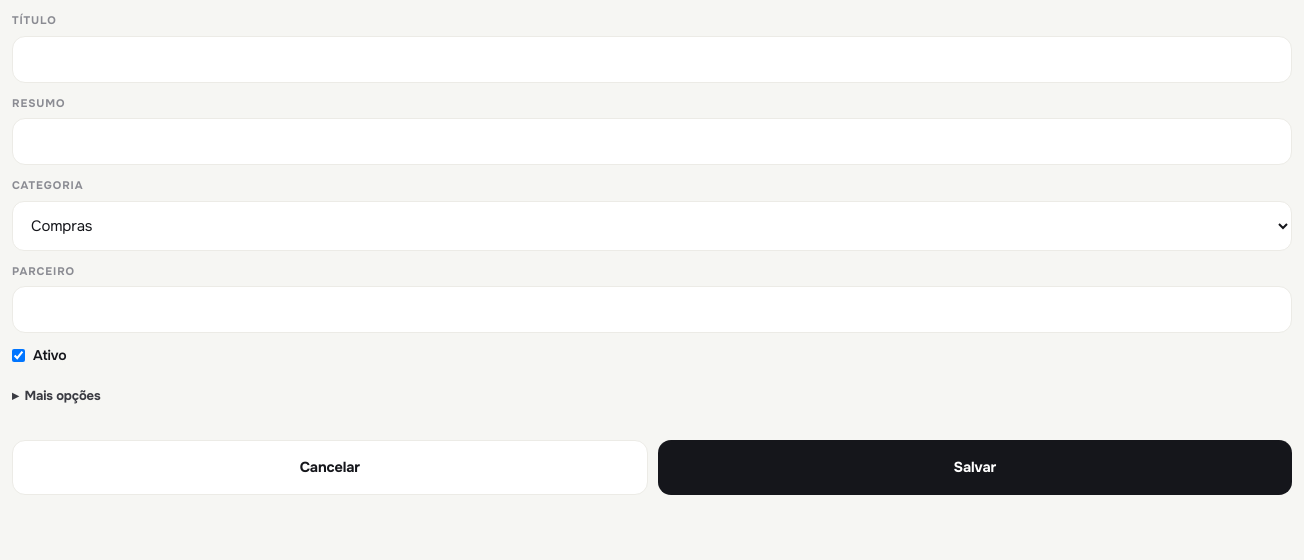
Scenario: BenefitForm › não submete título e resumo vazios e associa erros aos campos
Click the button "Salvar".
click(975, 467)  # box [658,440,1292,495]
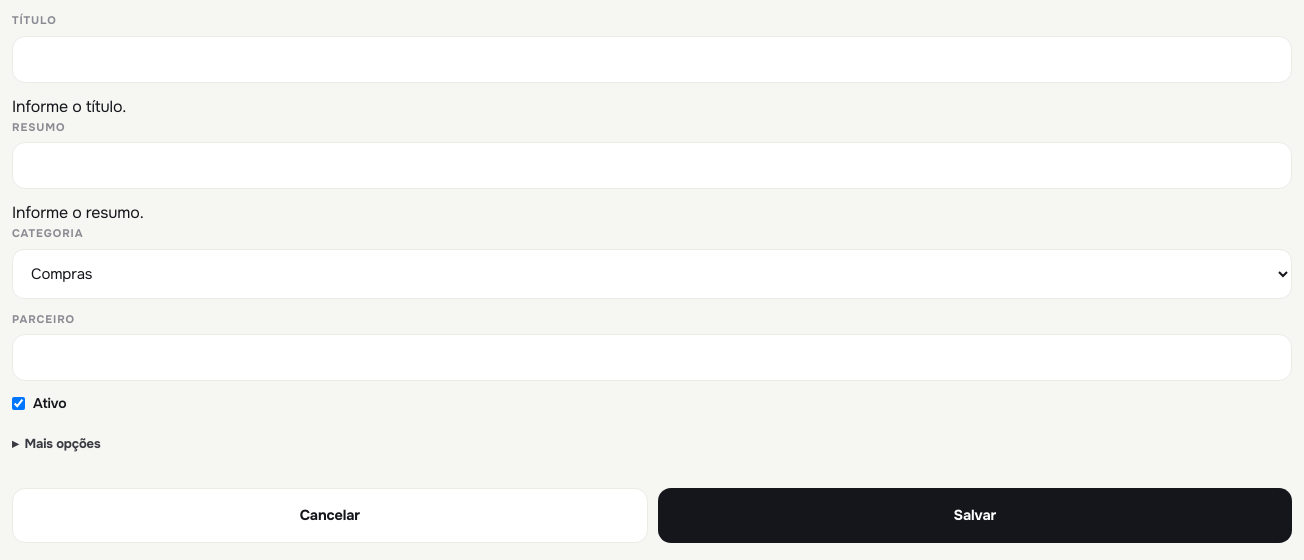
expect the number of messages is 2: met, box [12,96,126,116]; [12,202,144,223]
